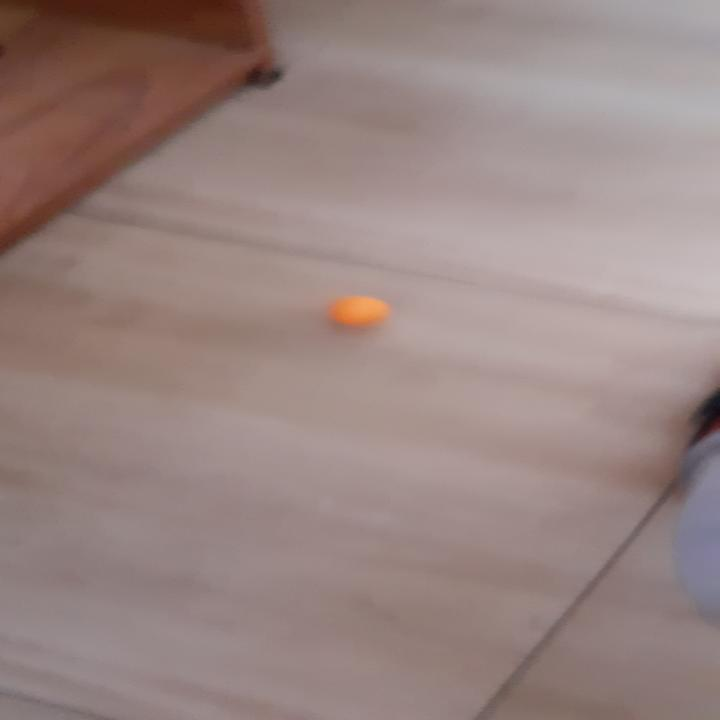orange: (325, 294, 393, 332)
